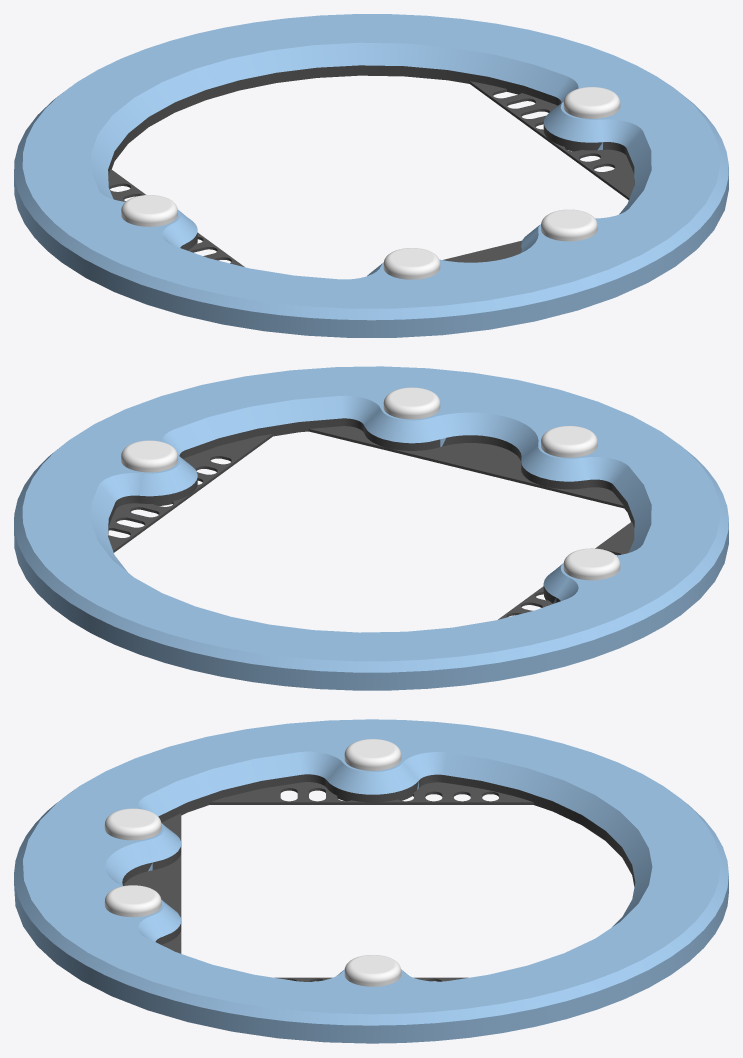
Rendered from Suunto Zoop.fbx.
3 renders of one model, top to bottom at view 1: azimuth 30°, elevation 25°; view 2: azimuth 150°, elevation 25°; view 3: azimuth 270°, elevation 25°, orthographic.
Parts seen in each view (by area): view 1: Body; view 2: Body; view 3: Body.
Boxes of the visible parts, x1,y1,x2,y2 form: Body: [14, 14, 728, 337]; Body: [14, 366, 728, 690]; Body: [14, 719, 728, 1043].
Size of the model in its own units: 1260 by 70 by 1260.
